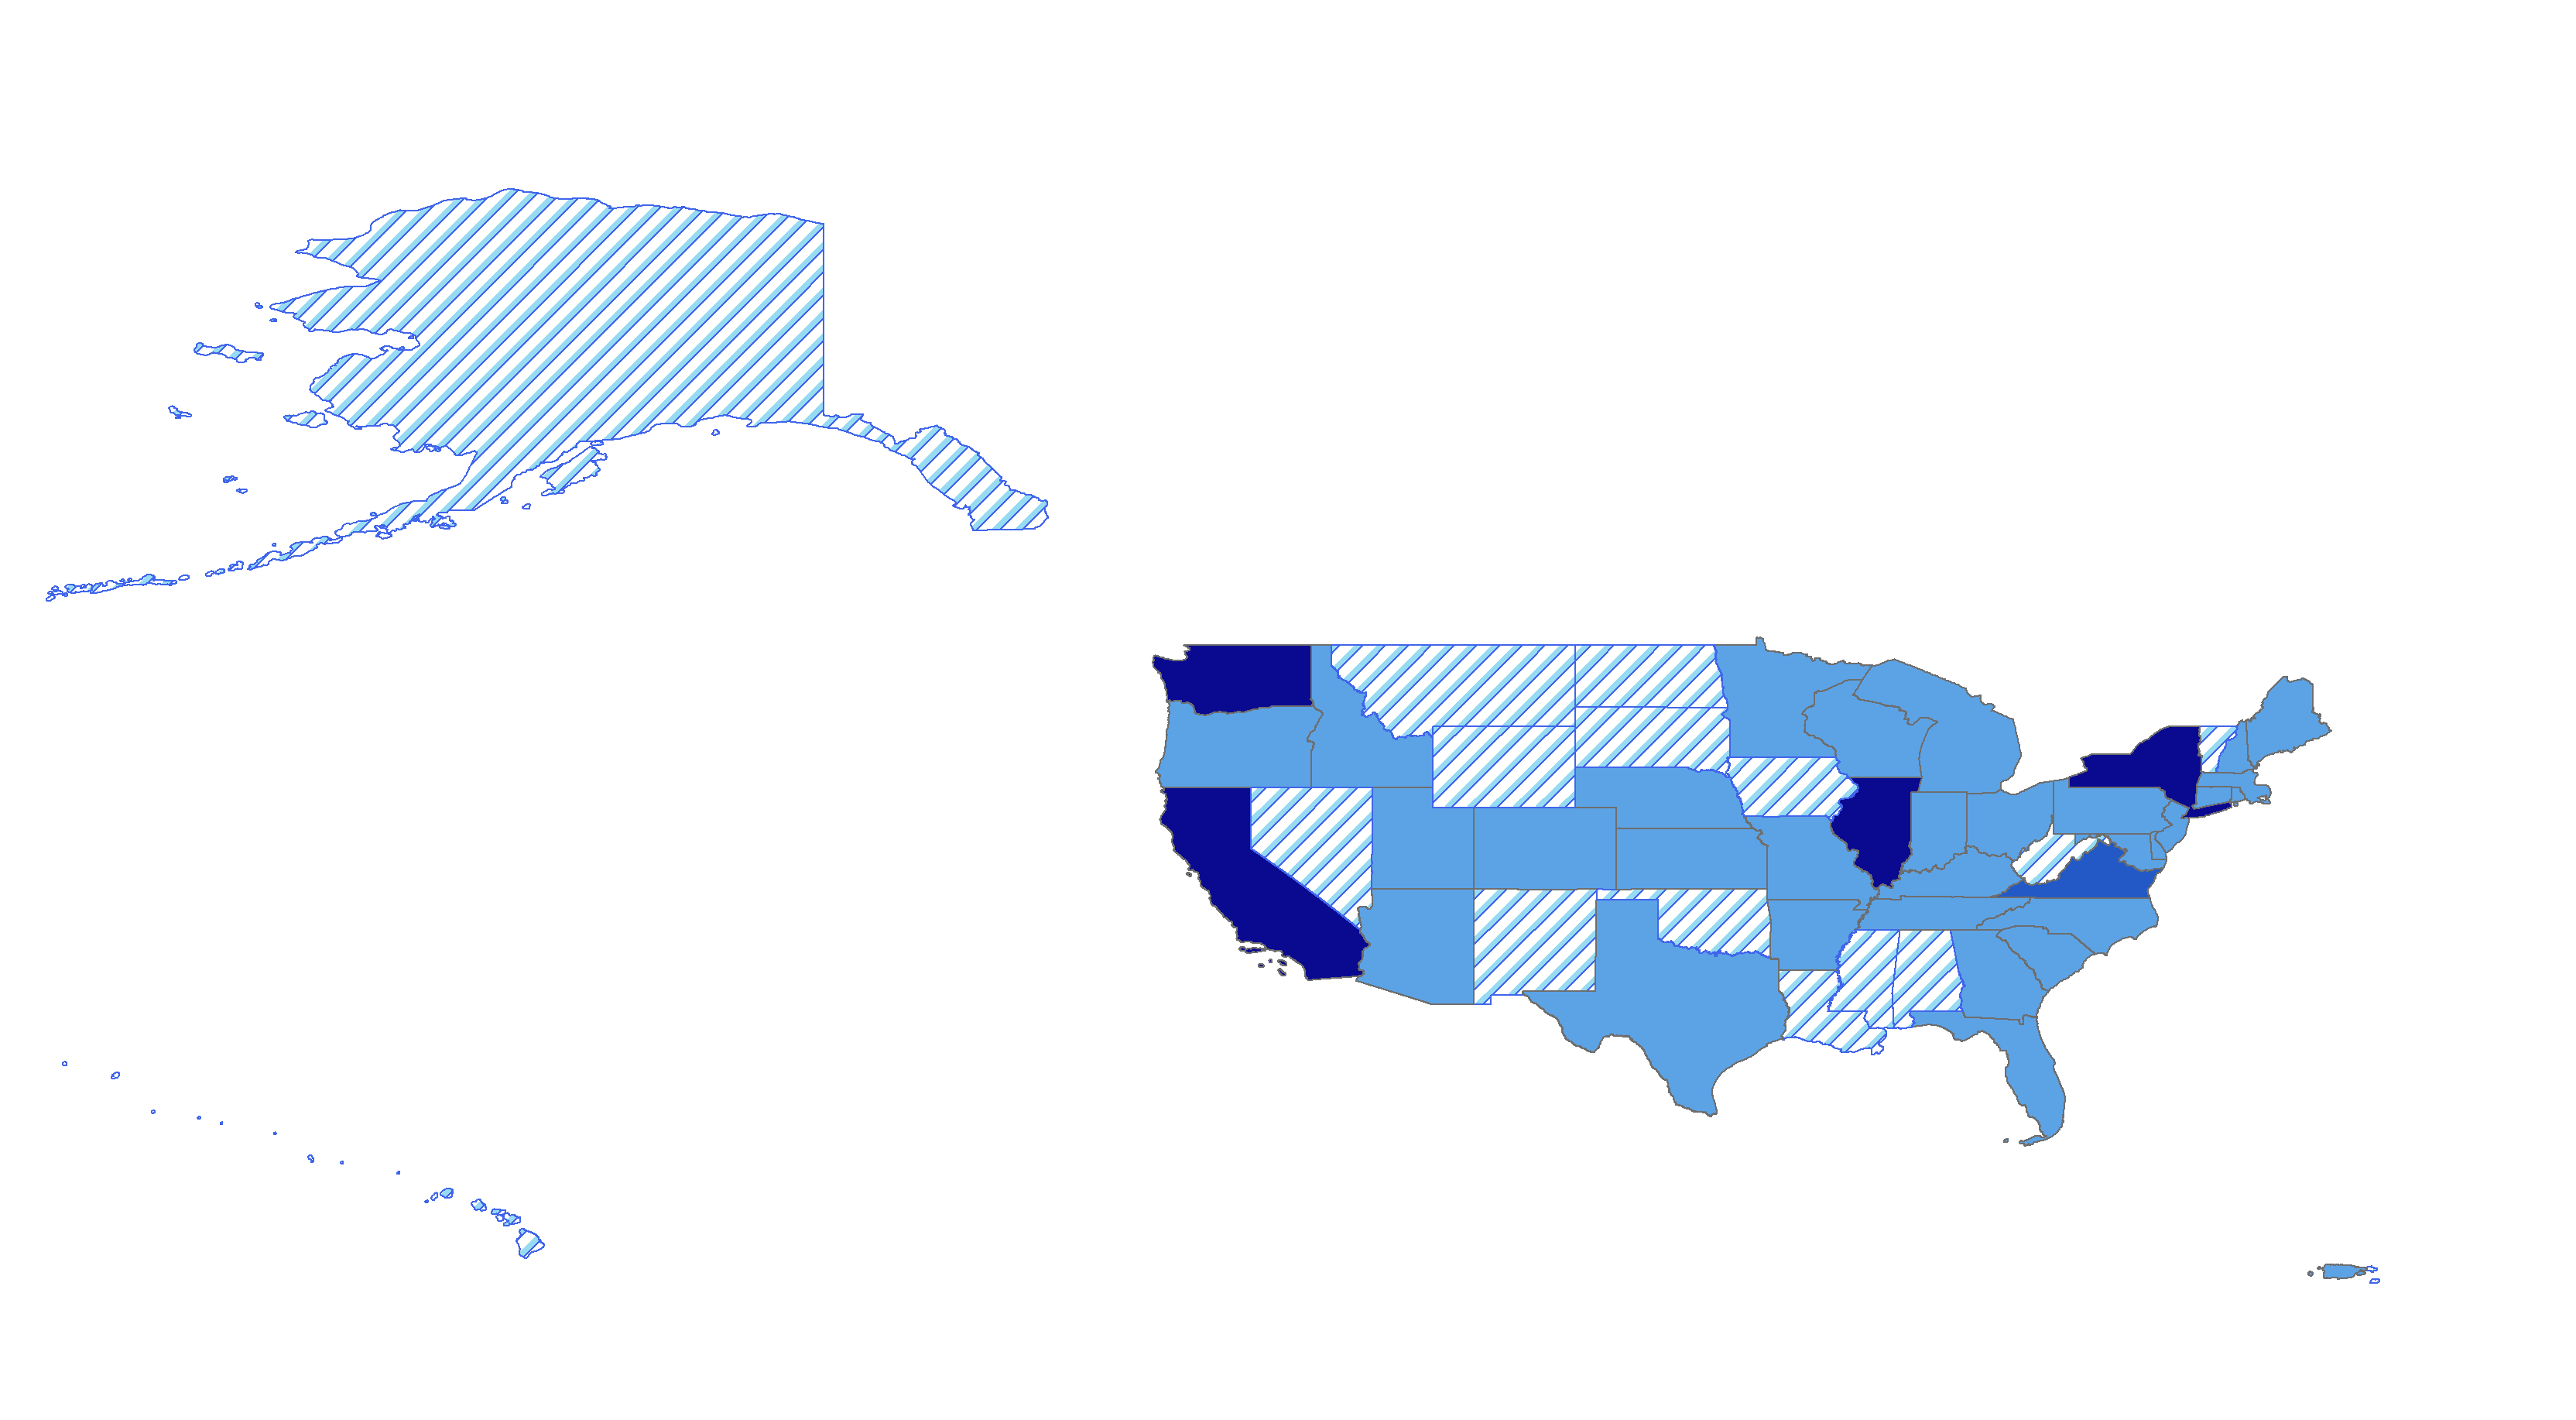

Layout of this report page (visuals, bound fields, positions):
{"tool":"tableau","page":{"name":"Daniel_Final","canvas":[1000,800],"ordinal":1},"visuals":[{"type":"worksheet","title":"Usage_Age","mark":"Automatic","box":[0,0,840,800]},{"type":"legend","title":"Usage_Age","param":"[federated.1v9dvdo1hhewbu18rkmdg1ggalo1].[sum:Number of Records:qk]","box":[840,0,160,71]}]}

Visuals, with their boxes on the page's 1000x800 design canvas (x1, y1, x2, y2). These are canvas units, not pixel positions in the 2576x1420 screenshot, which may show the page scaled, cropped or inside an application window:
"Usage_Age" worksheet: rect(0, 0, 840, 800)
"Usage_Age" legend: rect(840, 0, 1000, 71)
